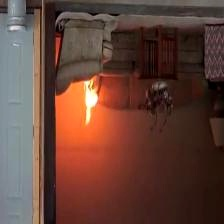fire: (69, 78, 111, 130)
